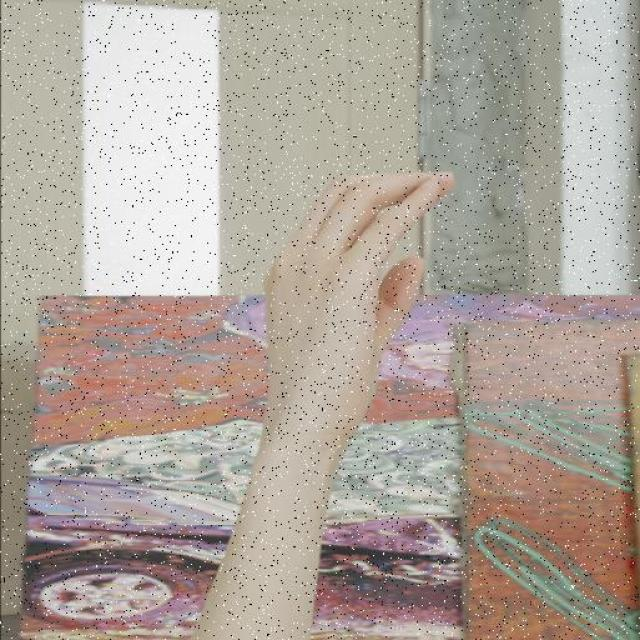C: (262, 167, 457, 452)
